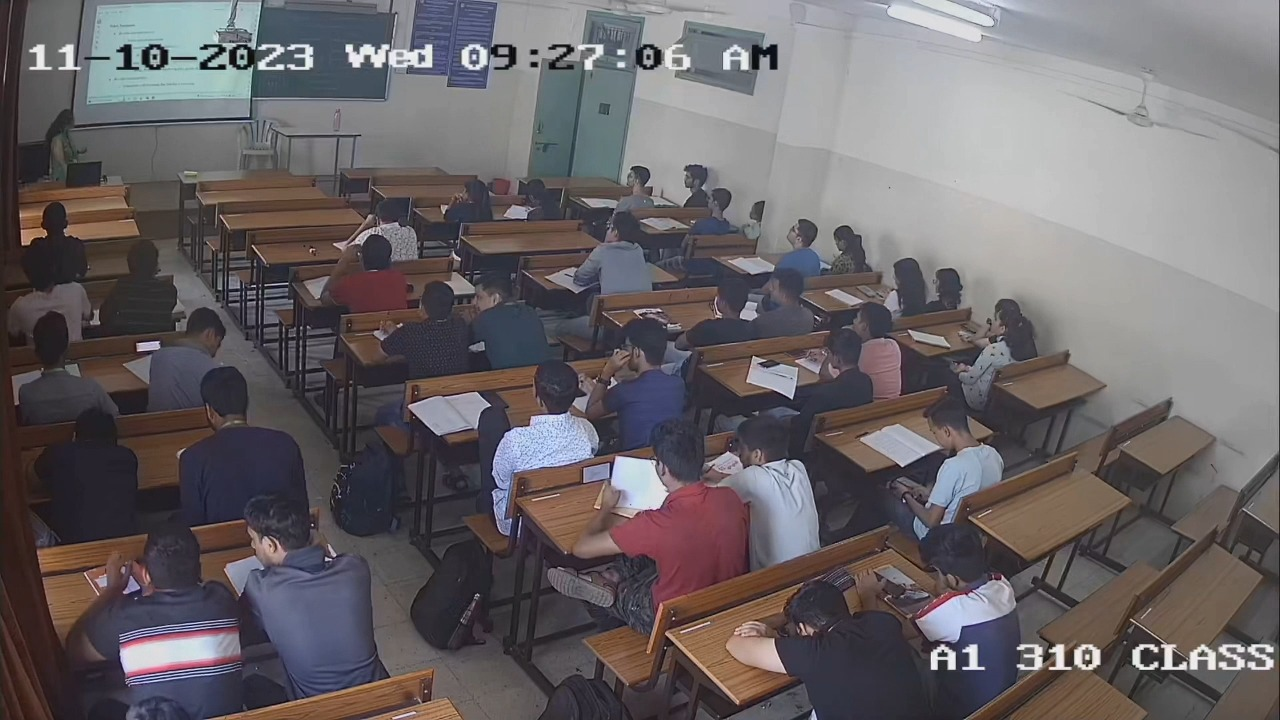cell-phones: (873, 570, 907, 599), (580, 459, 615, 485), (132, 339, 164, 353), (757, 357, 781, 372), (855, 284, 877, 299), (961, 321, 979, 335)
person: (576, 420, 754, 597), (906, 522, 1023, 688), (147, 307, 228, 407), (794, 328, 874, 410), (958, 300, 1033, 370), (881, 257, 931, 316)
